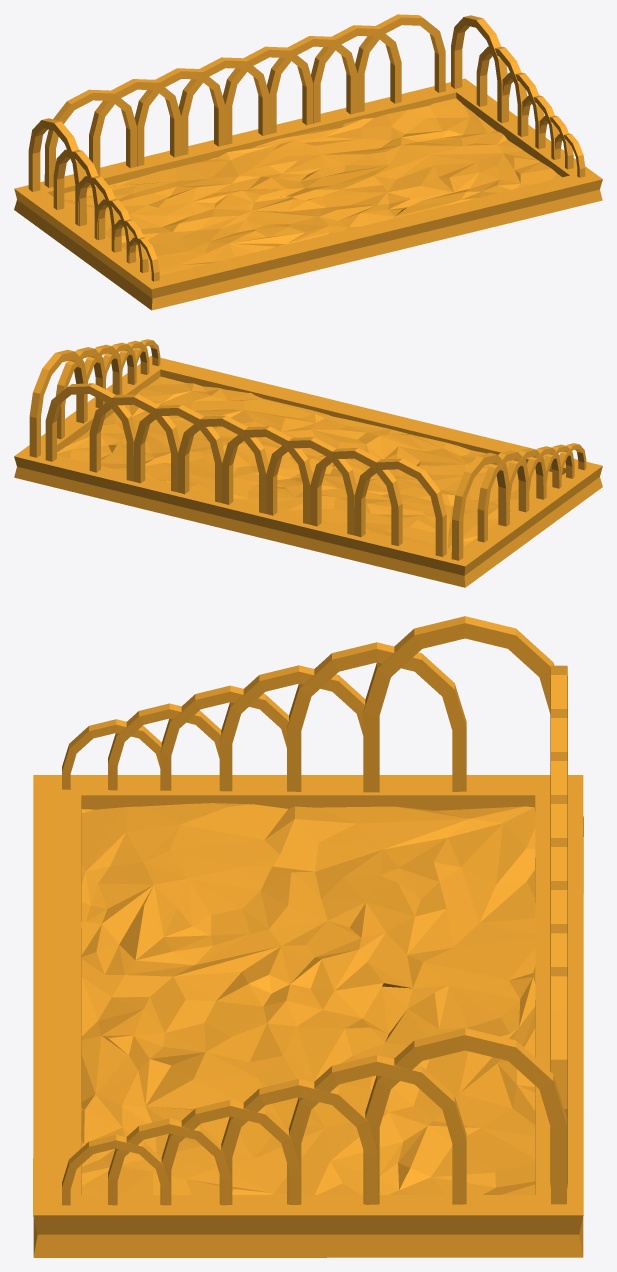
Rendered from SM_Tree_Pot_City_C_2m.fbx.
3 renders of one model, top to bottom at view 1: azimuth 30°, elevation 25°; view 2: azimuth 150°, elevation 25°; view 3: azimuth 270°, elevation 25°, orthographic. The views are drawn at different scales.
Parts seen in each view (by area): view 1: SM_Tree_Pot_City_C_2m; view 2: SM_Tree_Pot_City_C_2m; view 3: SM_Tree_Pot_City_C_2m.
Part boxes in pixels (box(x1,y1,x2,y2)): SM_Tree_Pot_City_C_2m: box(14, 14, 602, 310); SM_Tree_Pot_City_C_2m: box(14, 339, 602, 587); SM_Tree_Pot_City_C_2m: box(33, 616, 583, 1257).
Size of the model in its own units: 2.13 by 0.4789 by 1.13.
